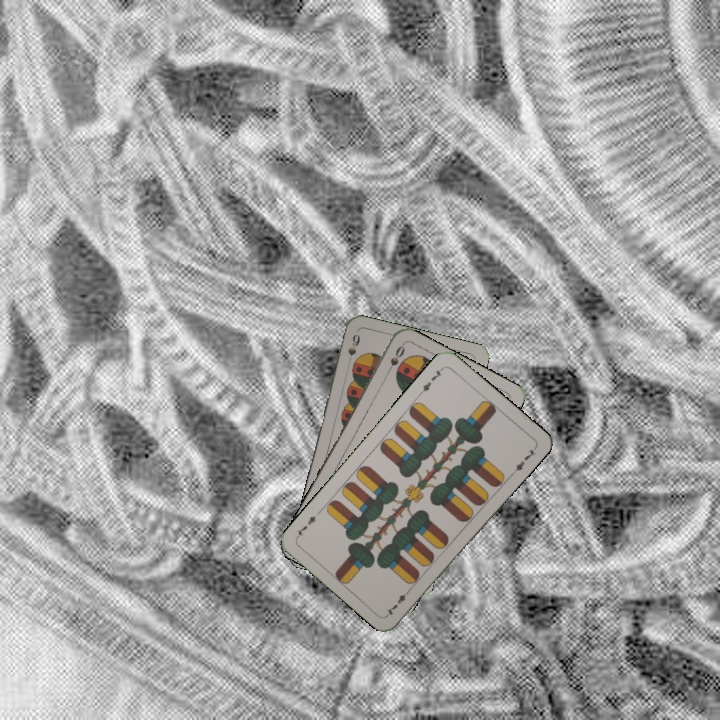E7: (382, 584, 414, 618), (416, 363, 446, 397)
S9: (344, 330, 363, 369)
SO: (382, 341, 407, 378)
